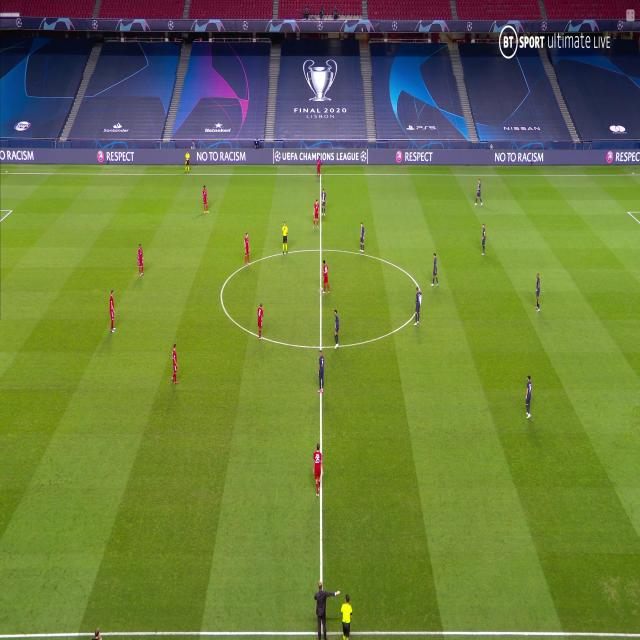player: (313, 579, 339, 640), (312, 443, 323, 498), (341, 594, 353, 640), (524, 374, 534, 419), (170, 342, 180, 386), (316, 351, 326, 395), (412, 283, 422, 326), (332, 308, 341, 350), (108, 288, 116, 334), (136, 243, 146, 277), (534, 272, 542, 312), (321, 259, 330, 294), (256, 302, 264, 341), (201, 183, 210, 216), (281, 220, 289, 257), (431, 252, 439, 288), (243, 230, 251, 266), (358, 220, 366, 253), (312, 197, 320, 229), (474, 178, 483, 206), (480, 221, 487, 256), (315, 153, 323, 183), (320, 188, 326, 219), (184, 148, 191, 174)
